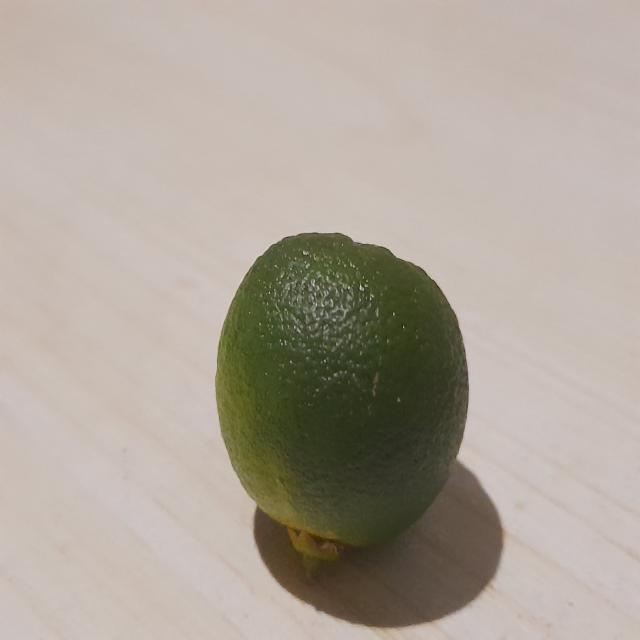heathy: (208, 227, 472, 566)
